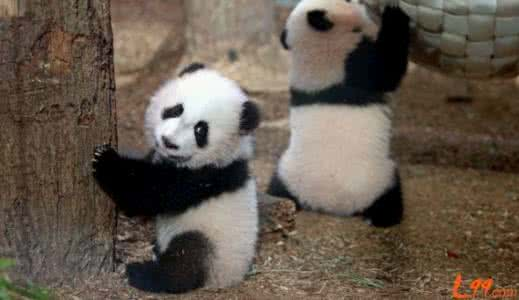panda: (91, 51, 262, 297), (266, 1, 415, 232)
